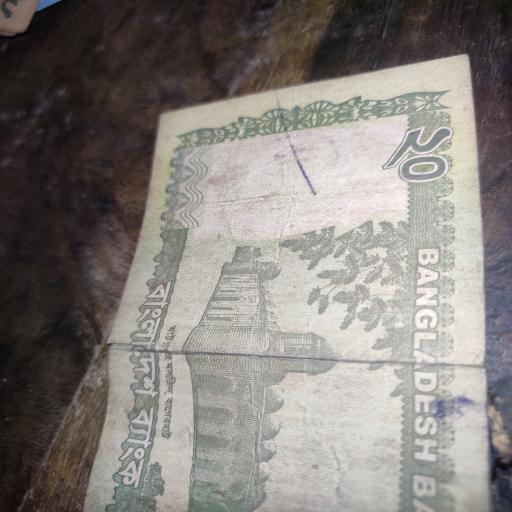20taka: (83, 55, 484, 512)
